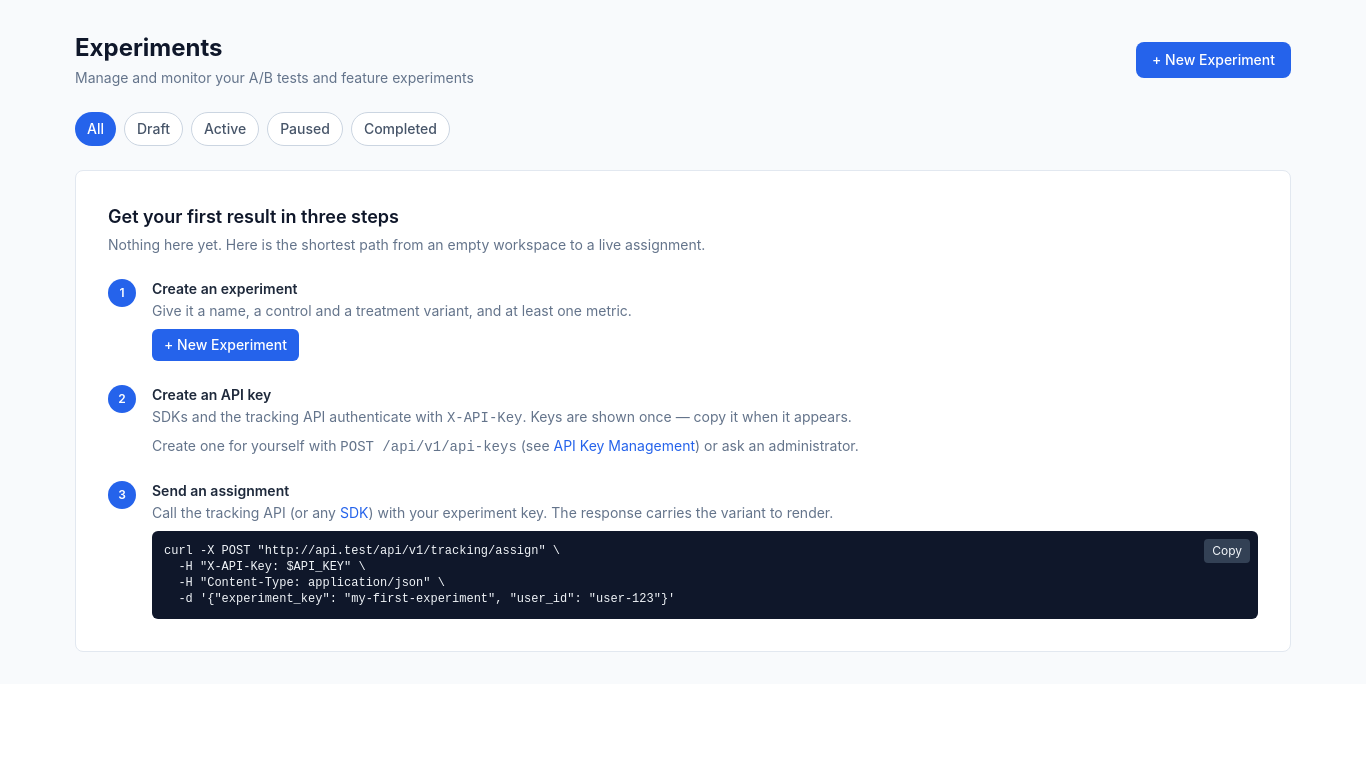
Test: ExperimentsPage › shows the first-run checklist with a copyable curl when there are no experiments
Expected: the element with test id "checklist-api-key-route" shows "POST /api/v1/api-keys", [340,439,517,455]
Click the button with test id "checklist-copy-curl" at (1227,551), box [1204,539,1250,563]
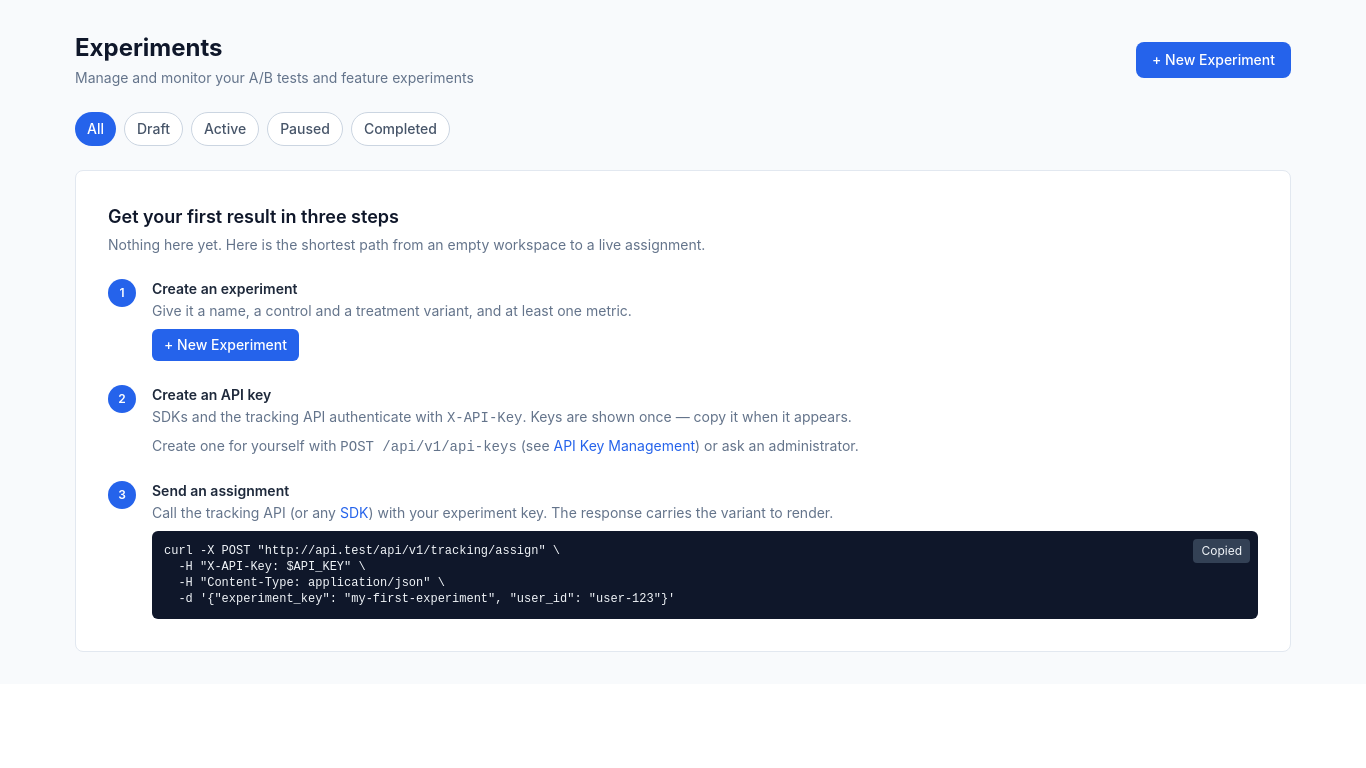
Now the button "Copied" is shown, box [1193,539,1250,563]
